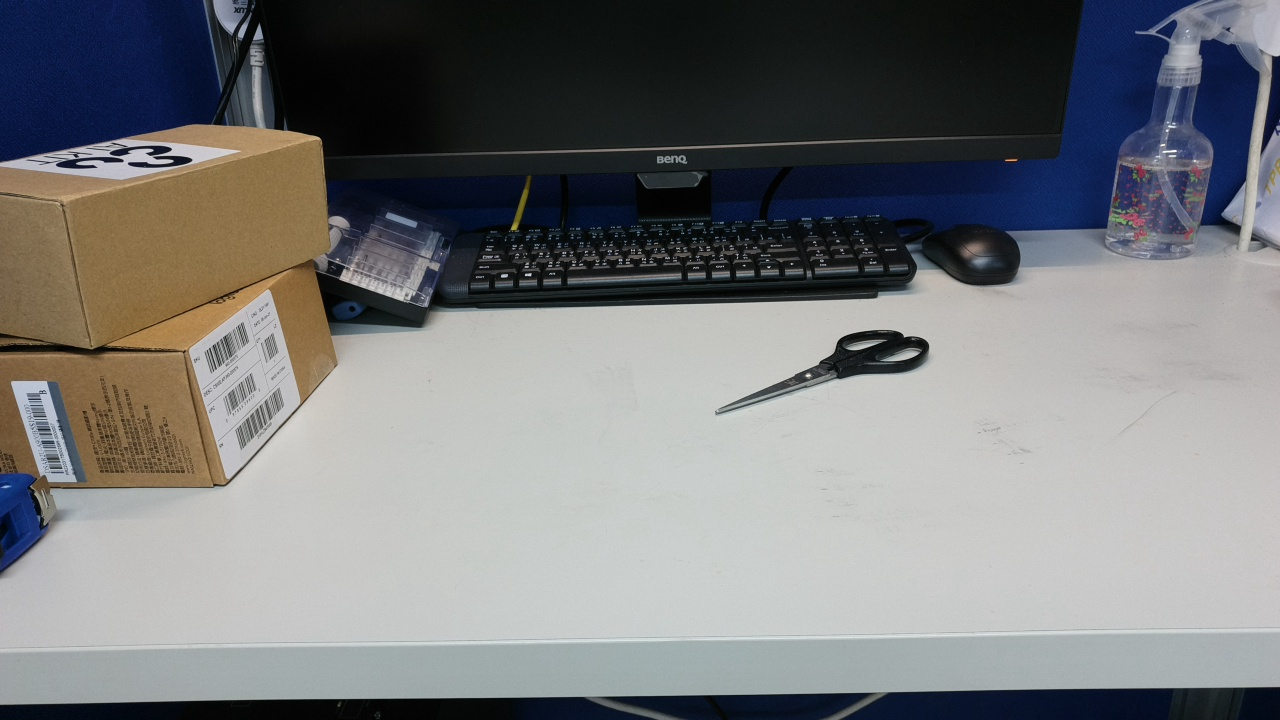blade: (772, 514, 809, 636)
grasp: (714, 441, 849, 537)
